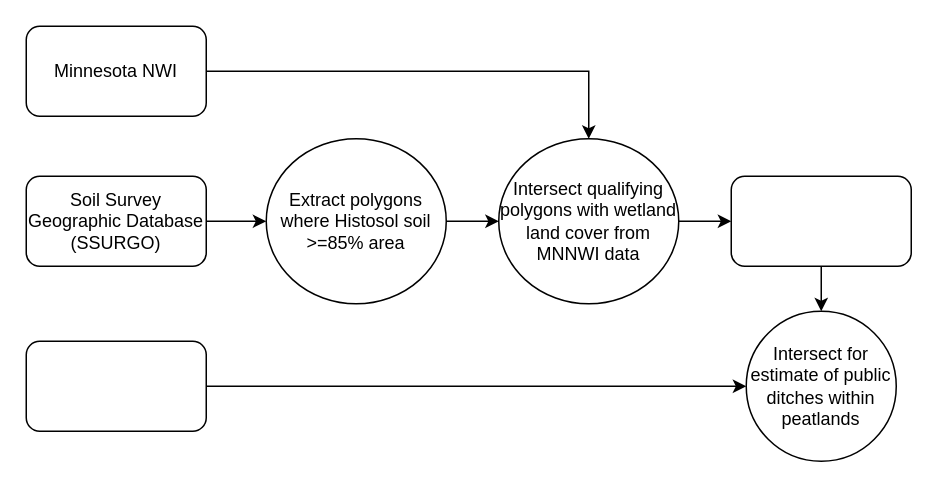
The diagram is 938 pixels wide and 488 high, and some of its shapes have lost their labels. Here are the shapes that lost their labels. From the top down, the centre of each, then its label:
(820,220): Areas classified as peatland for purposes of study
(115,385): Minnesota Buffer Protection Public Ditch Features
